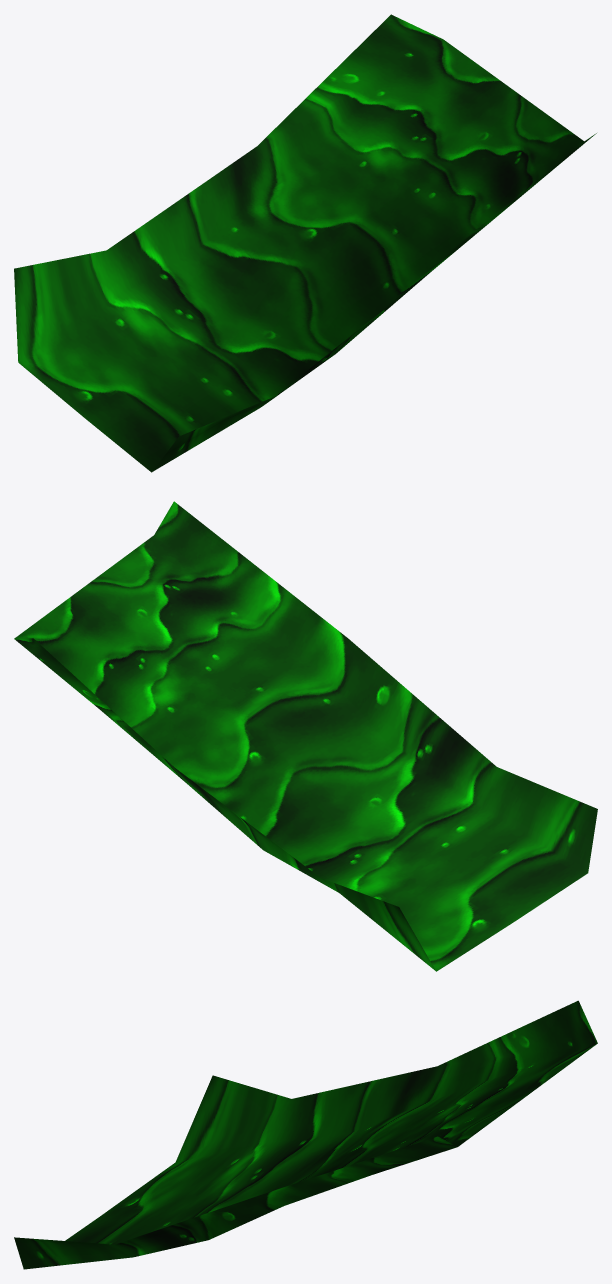
The model's file is MIRKWOOD_SLIMEFLOOR.fbx.
The picture shows the model from 3 angles, top to bottom: view 1: azimuth 30°, elevation 25°; view 2: azimuth 150°, elevation 25°; view 3: azimuth 330°, elevation 25°; orthographic projection.
Parts seen in each view (by area): view 1: MIRKWOOD_SLIMEFLOOR; view 2: MIRKWOOD_SLIMEFLOOR; view 3: MIRKWOOD_SLIMEFLOOR.
Boxes of the visible parts, bbox=[...] form: MIRKWOOD_SLIMEFLOOR: bbox=[14, 14, 596, 472]; MIRKWOOD_SLIMEFLOOR: bbox=[14, 501, 597, 971]; MIRKWOOD_SLIMEFLOOR: bbox=[14, 1000, 597, 1269].
Size of the model in its own units: 64729 by 35825 by 47738.
1 material, 1 textured.
